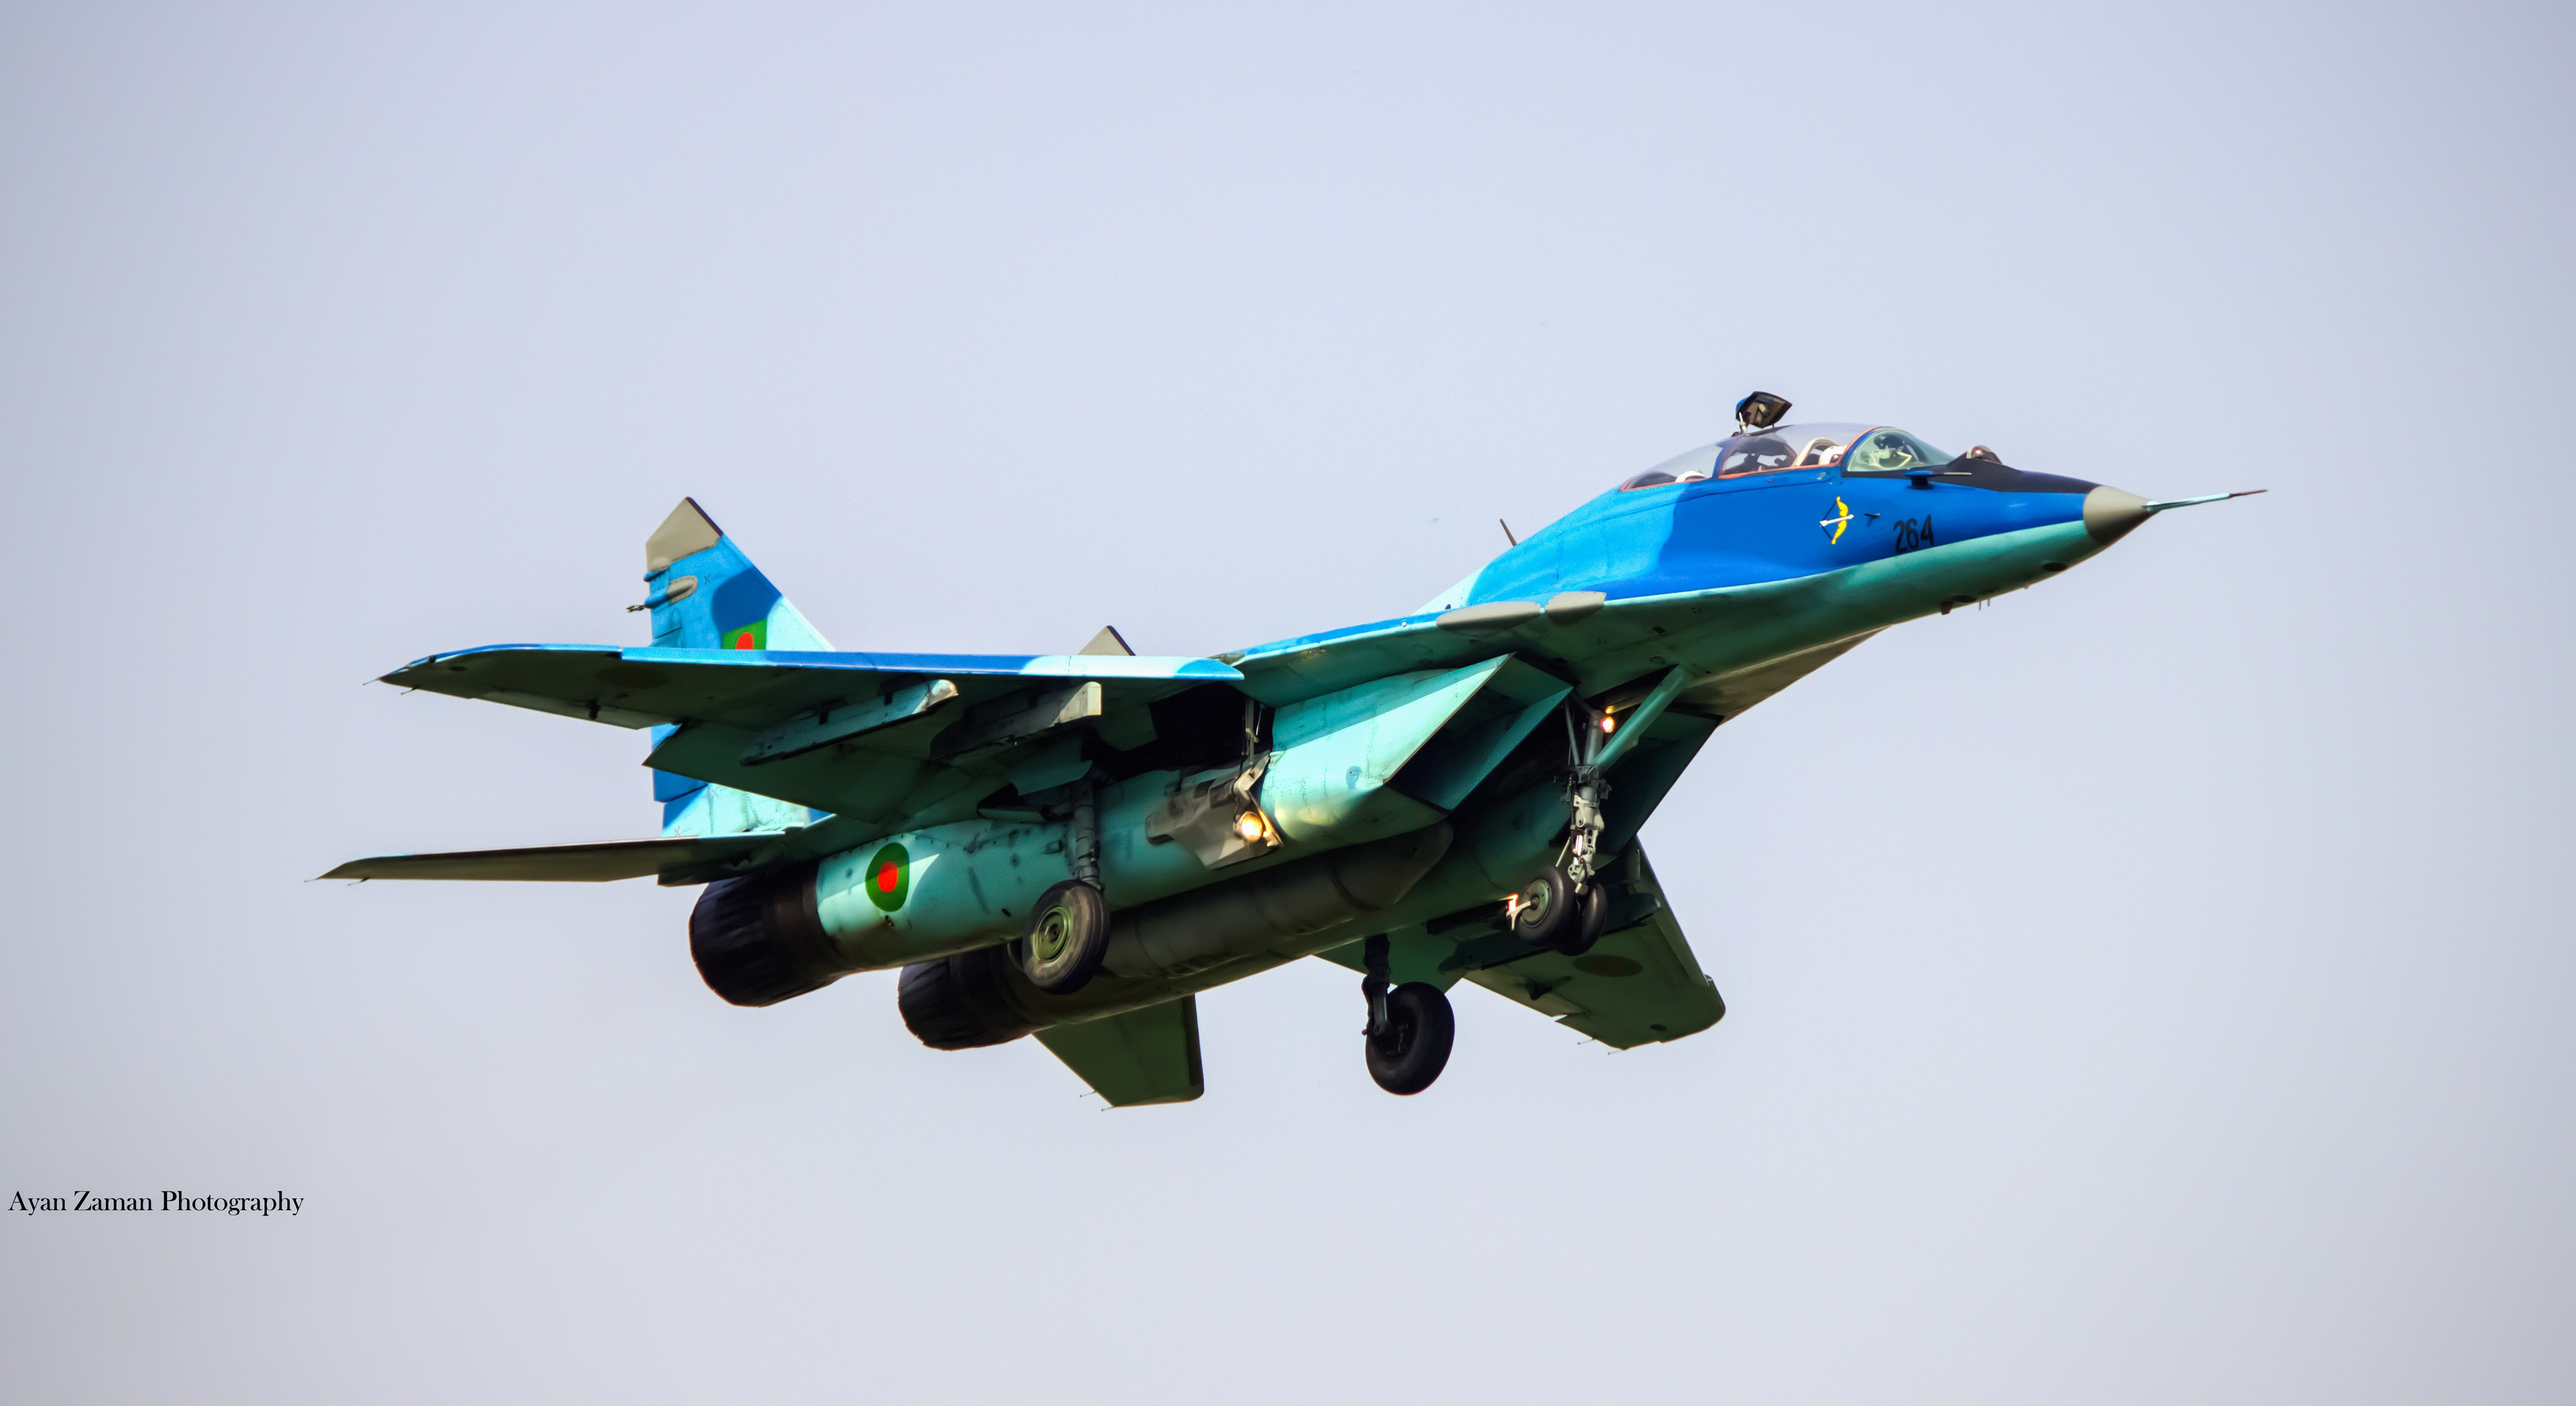Bangladesh: (864, 840, 923, 900), (720, 629, 774, 655)
Mig-29: (296, 291, 2294, 1184)
